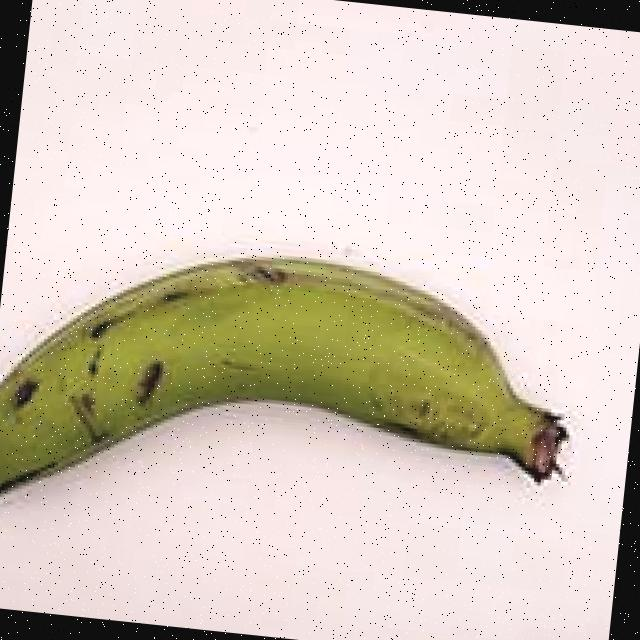Raw: (0, 192, 597, 613)
